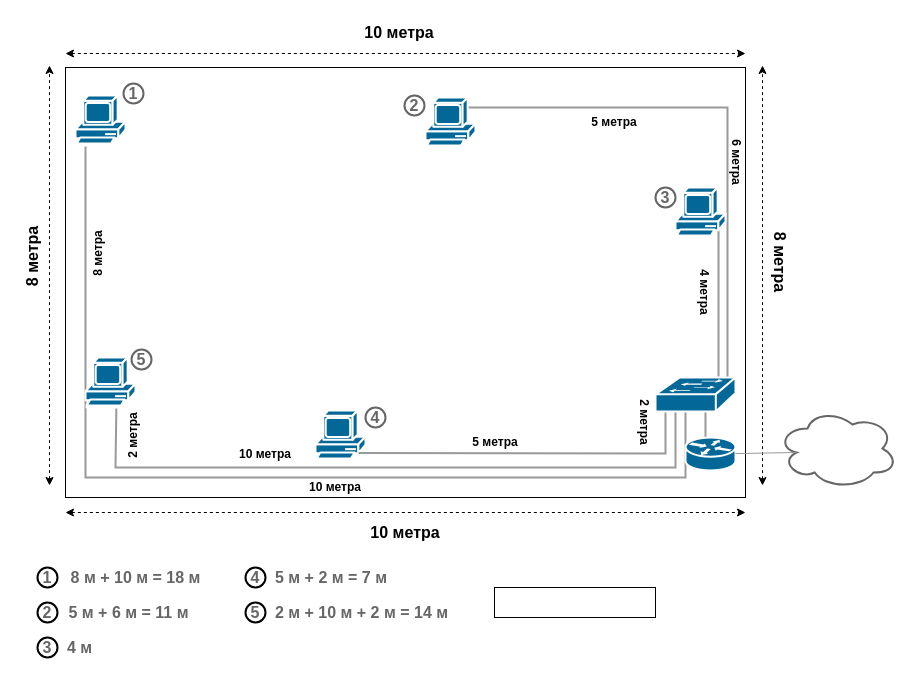
The diagram is 915 pixels wide and 679 high, and some of its shapes have lost their labels. The shapes that lost their labels are listed below. From the top down, each one's box as (x1, y1, x2, y2) in pixels, then its label:
(776, 407, 898, 489): Internet
(494, 586, 656, 618): Общо: 54 м кабел
